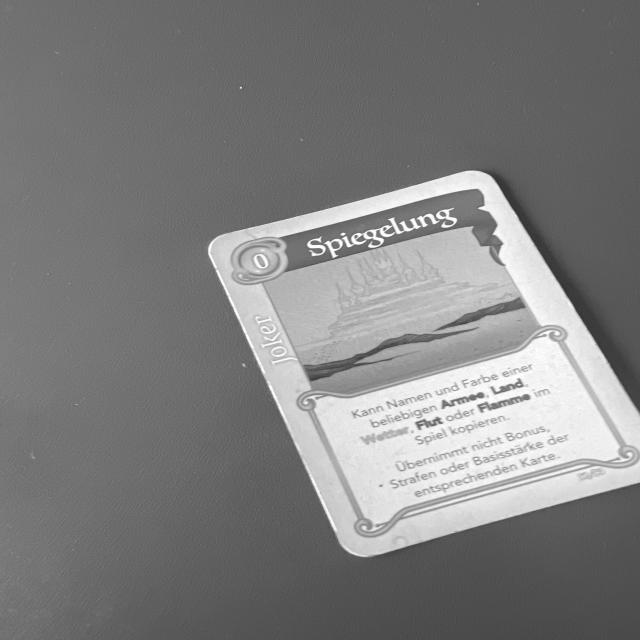Mirage: (201, 162, 639, 567)
